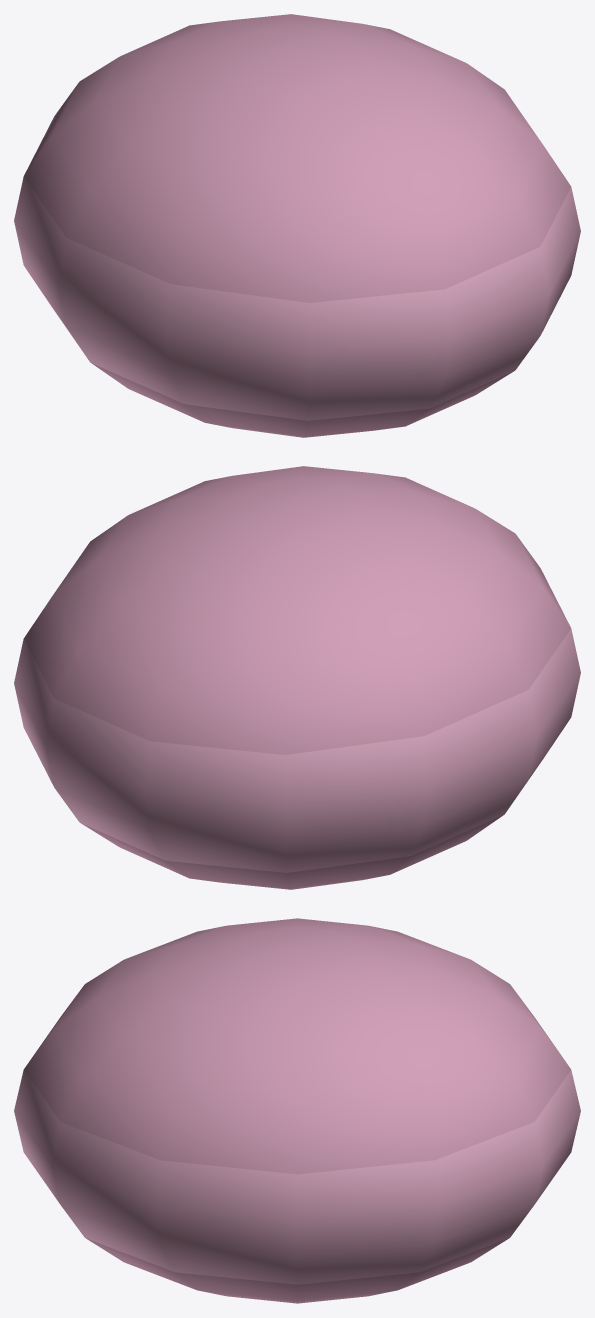
File: bush-73_col.fbx
3 renders of one model, top to bottom at view 1: azimuth 30°, elevation 25°; view 2: azimuth 150°, elevation 25°; view 3: azimuth 270°, elevation 25°, orthographic. The views are drawn at different scales.
Visible parts, largest first — view 1: bush-73.col; view 2: bush-73.col; view 3: bush-73.col.
Boxes of the visible parts, x1,y1,x2,y2 form: bush-73.col: (14, 14, 580, 437); bush-73.col: (14, 466, 580, 889); bush-73.col: (14, 918, 580, 1303).
Bounding box in the file's own units: 0.1635 × 0.1123 × 0.1805.
1 material, 1 textured.
